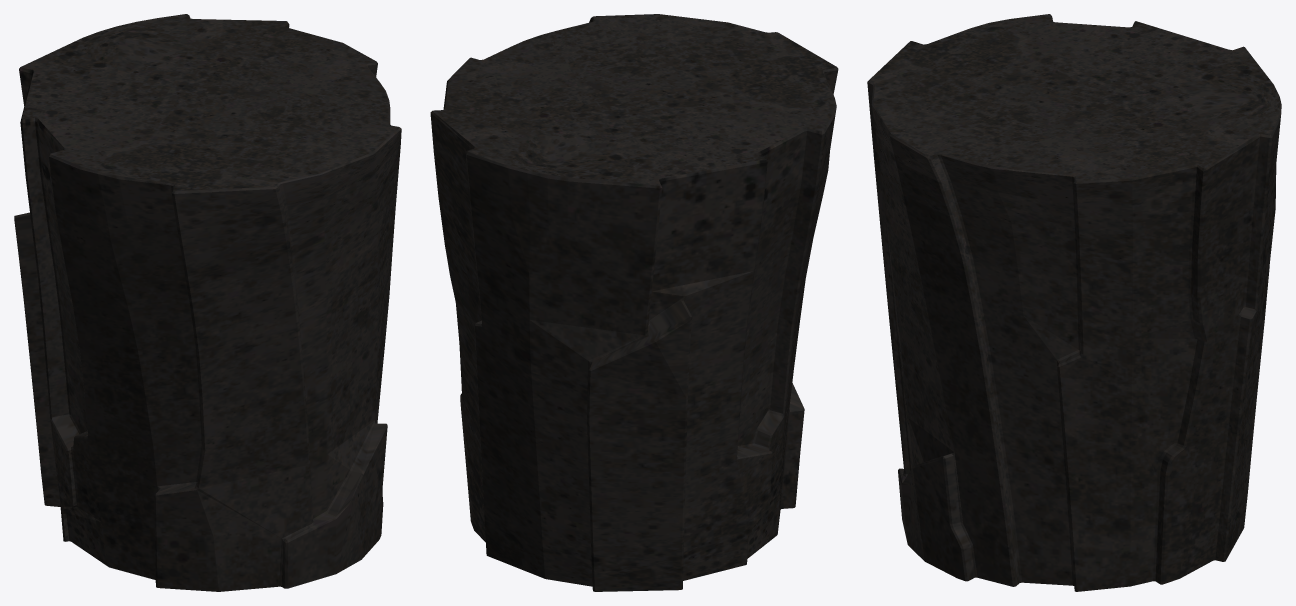
Rendered from RockCylinderM02.fbx.
The picture shows the model from 3 angles, left to right: view 1: azimuth 30°, elevation 25°; view 2: azimuth 150°, elevation 25°; view 3: azimuth 270°, elevation 25°; orthographic projection.
Visible parts, largest first — view 1: SM_ENV_NATURE_Cave_RockCylinder_M_02.mo; view 2: SM_ENV_NATURE_Cave_RockCylinder_M_02.mo; view 3: SM_ENV_NATURE_Cave_RockCylinder_M_02.mo.
Boxes of the visible parts, left/top/right/bottom form: SM_ENV_NATURE_Cave_RockCylinder_M_02.mo: left=14, top=14, right=401, bottom=591; SM_ENV_NATURE_Cave_RockCylinder_M_02.mo: left=430, top=14, right=838, bottom=591; SM_ENV_NATURE_Cave_RockCylinder_M_02.mo: left=867, top=14, right=1281, bottom=591.
Bounding box in the file's own units: 339 × 398 × 352.
2 materials, 2 textured.
